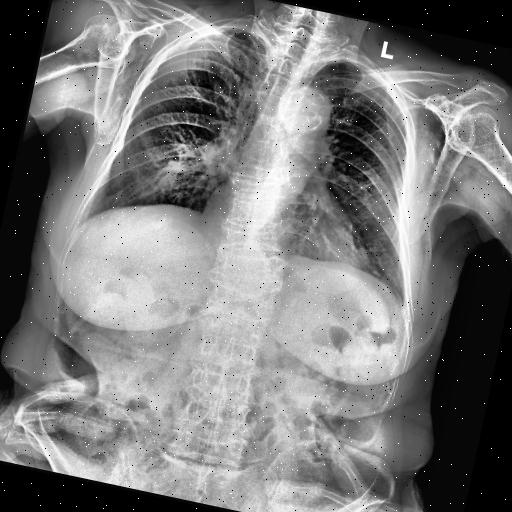0- Aortic enlargement: (268, 80, 338, 154), (279, 82, 342, 150), (274, 80, 337, 132)
3- Cardiomegaly: (194, 179, 378, 274)
